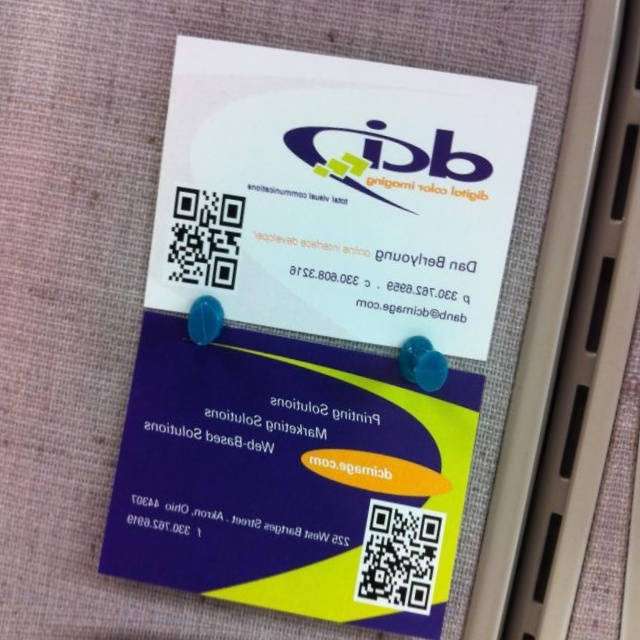qr-code: (357, 504, 443, 610), (162, 186, 249, 290)
